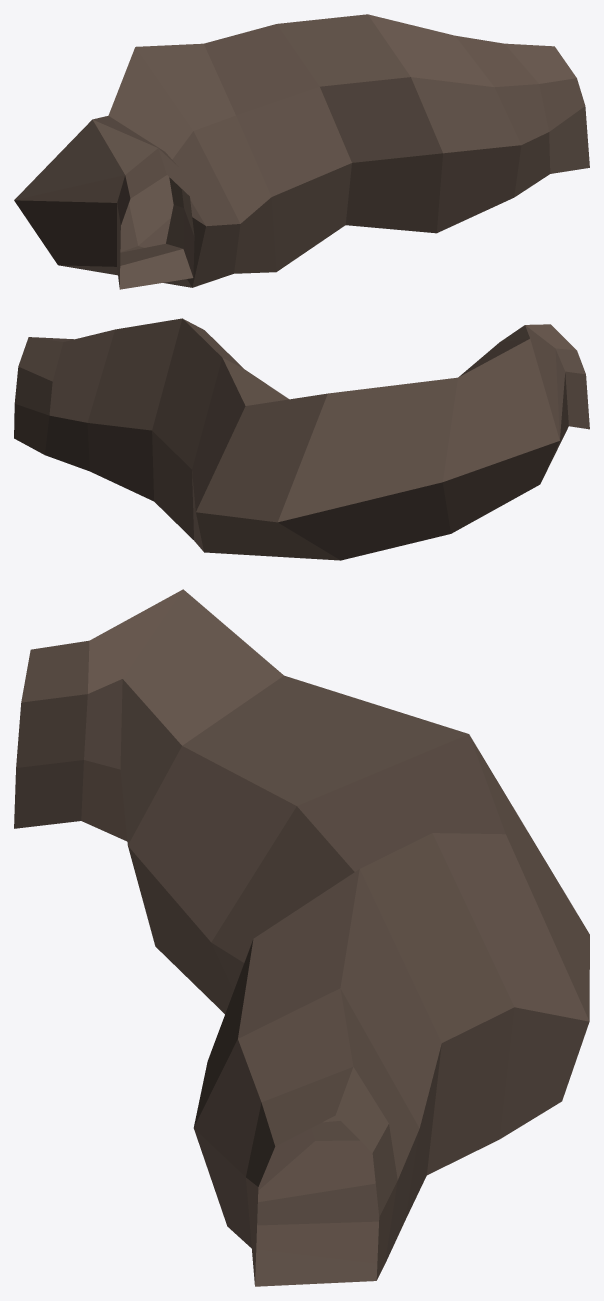
The model's file is Tunnel-C05.fbx.
3 views of the same model, one above another, from view 1: azimuth 30°, elevation 25°; view 2: azimuth 150°, elevation 25°; view 3: azimuth 270°, elevation 25° (orthographic). The views are drawn at different scales.
Visible parts, largest first — view 1: Tunnel-C05; view 2: Tunnel-C05; view 3: Tunnel-C05.
Boxes of the visible parts, x1,y1,x2,y2 form: Tunnel-C05: (14,14,589,289); Tunnel-C05: (14,318,589,560); Tunnel-C05: (14,589,589,1286).
Size of the model in its own units: 796 by 1439 by 559.
